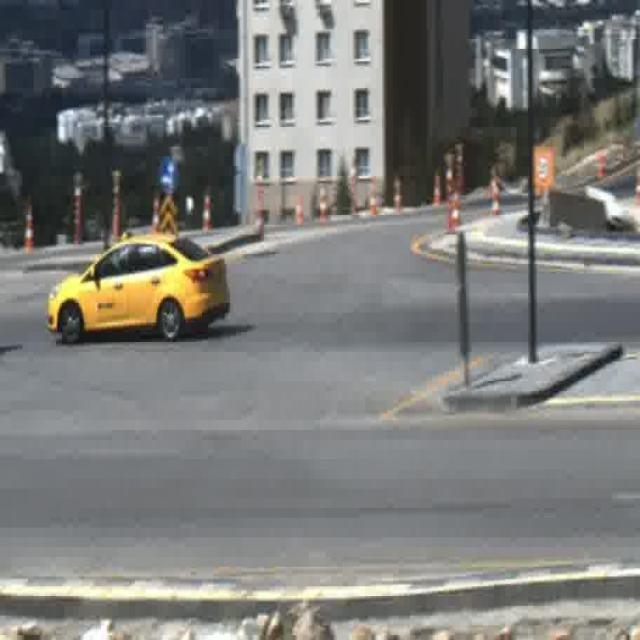Car: (48, 233, 229, 342)
